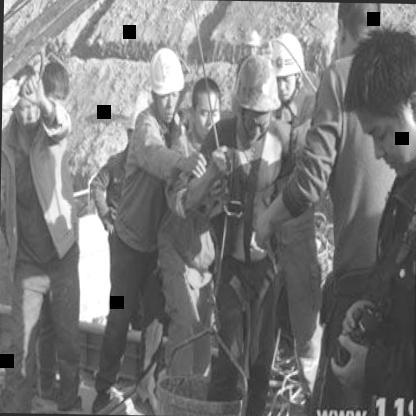head: (343, 30, 416, 168), (332, 2, 377, 57), (6, 66, 42, 130), (184, 77, 220, 139), (41, 58, 72, 110)
helmet: (226, 52, 280, 142), (146, 46, 186, 118), (270, 34, 306, 102)
